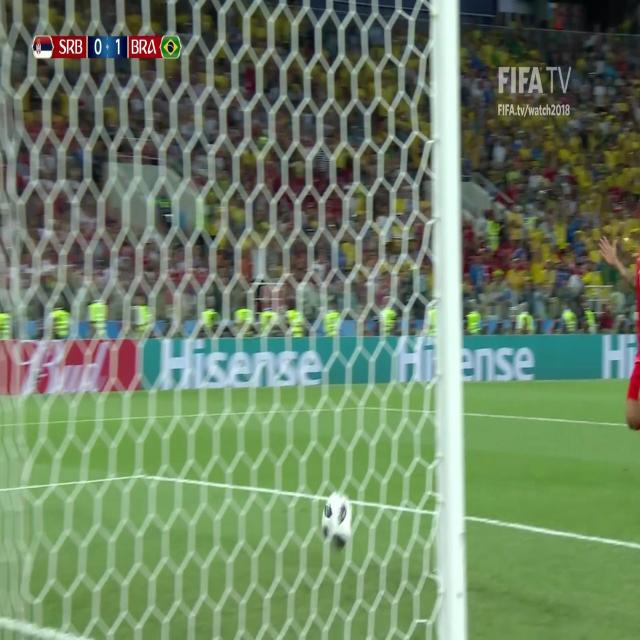ball: (318, 486, 357, 556)
